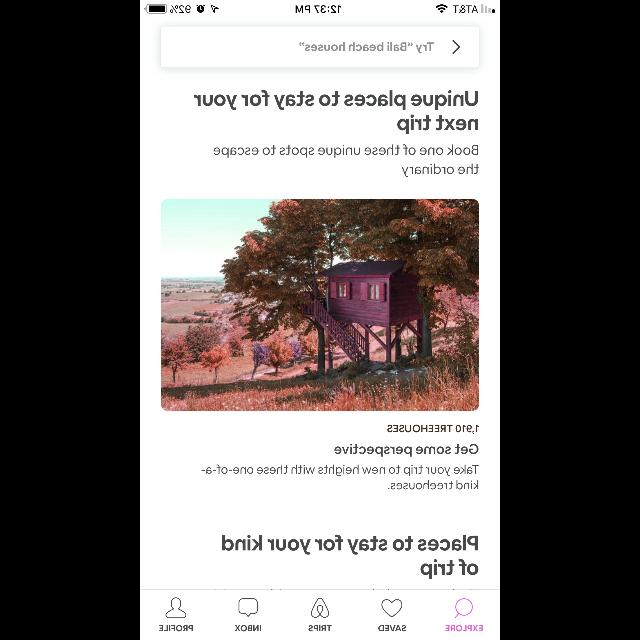icon: (166, 598, 187, 618), (238, 598, 258, 618), (454, 598, 472, 618), (382, 599, 402, 617), (452, 40, 460, 54)
image: (161, 199, 479, 411), (311, 598, 329, 618)
input: (160, 26, 480, 68)
text: (194, 90, 478, 134), (222, 535, 478, 579), (214, 144, 478, 178), (202, 464, 478, 490), (334, 444, 478, 456), (298, 42, 434, 54), (387, 424, 479, 434), (446, 624, 482, 632), (160, 624, 192, 632), (235, 624, 261, 632), (378, 625, 406, 631), (308, 625, 332, 631)
uppertaskbar: (140, 0, 500, 14)
